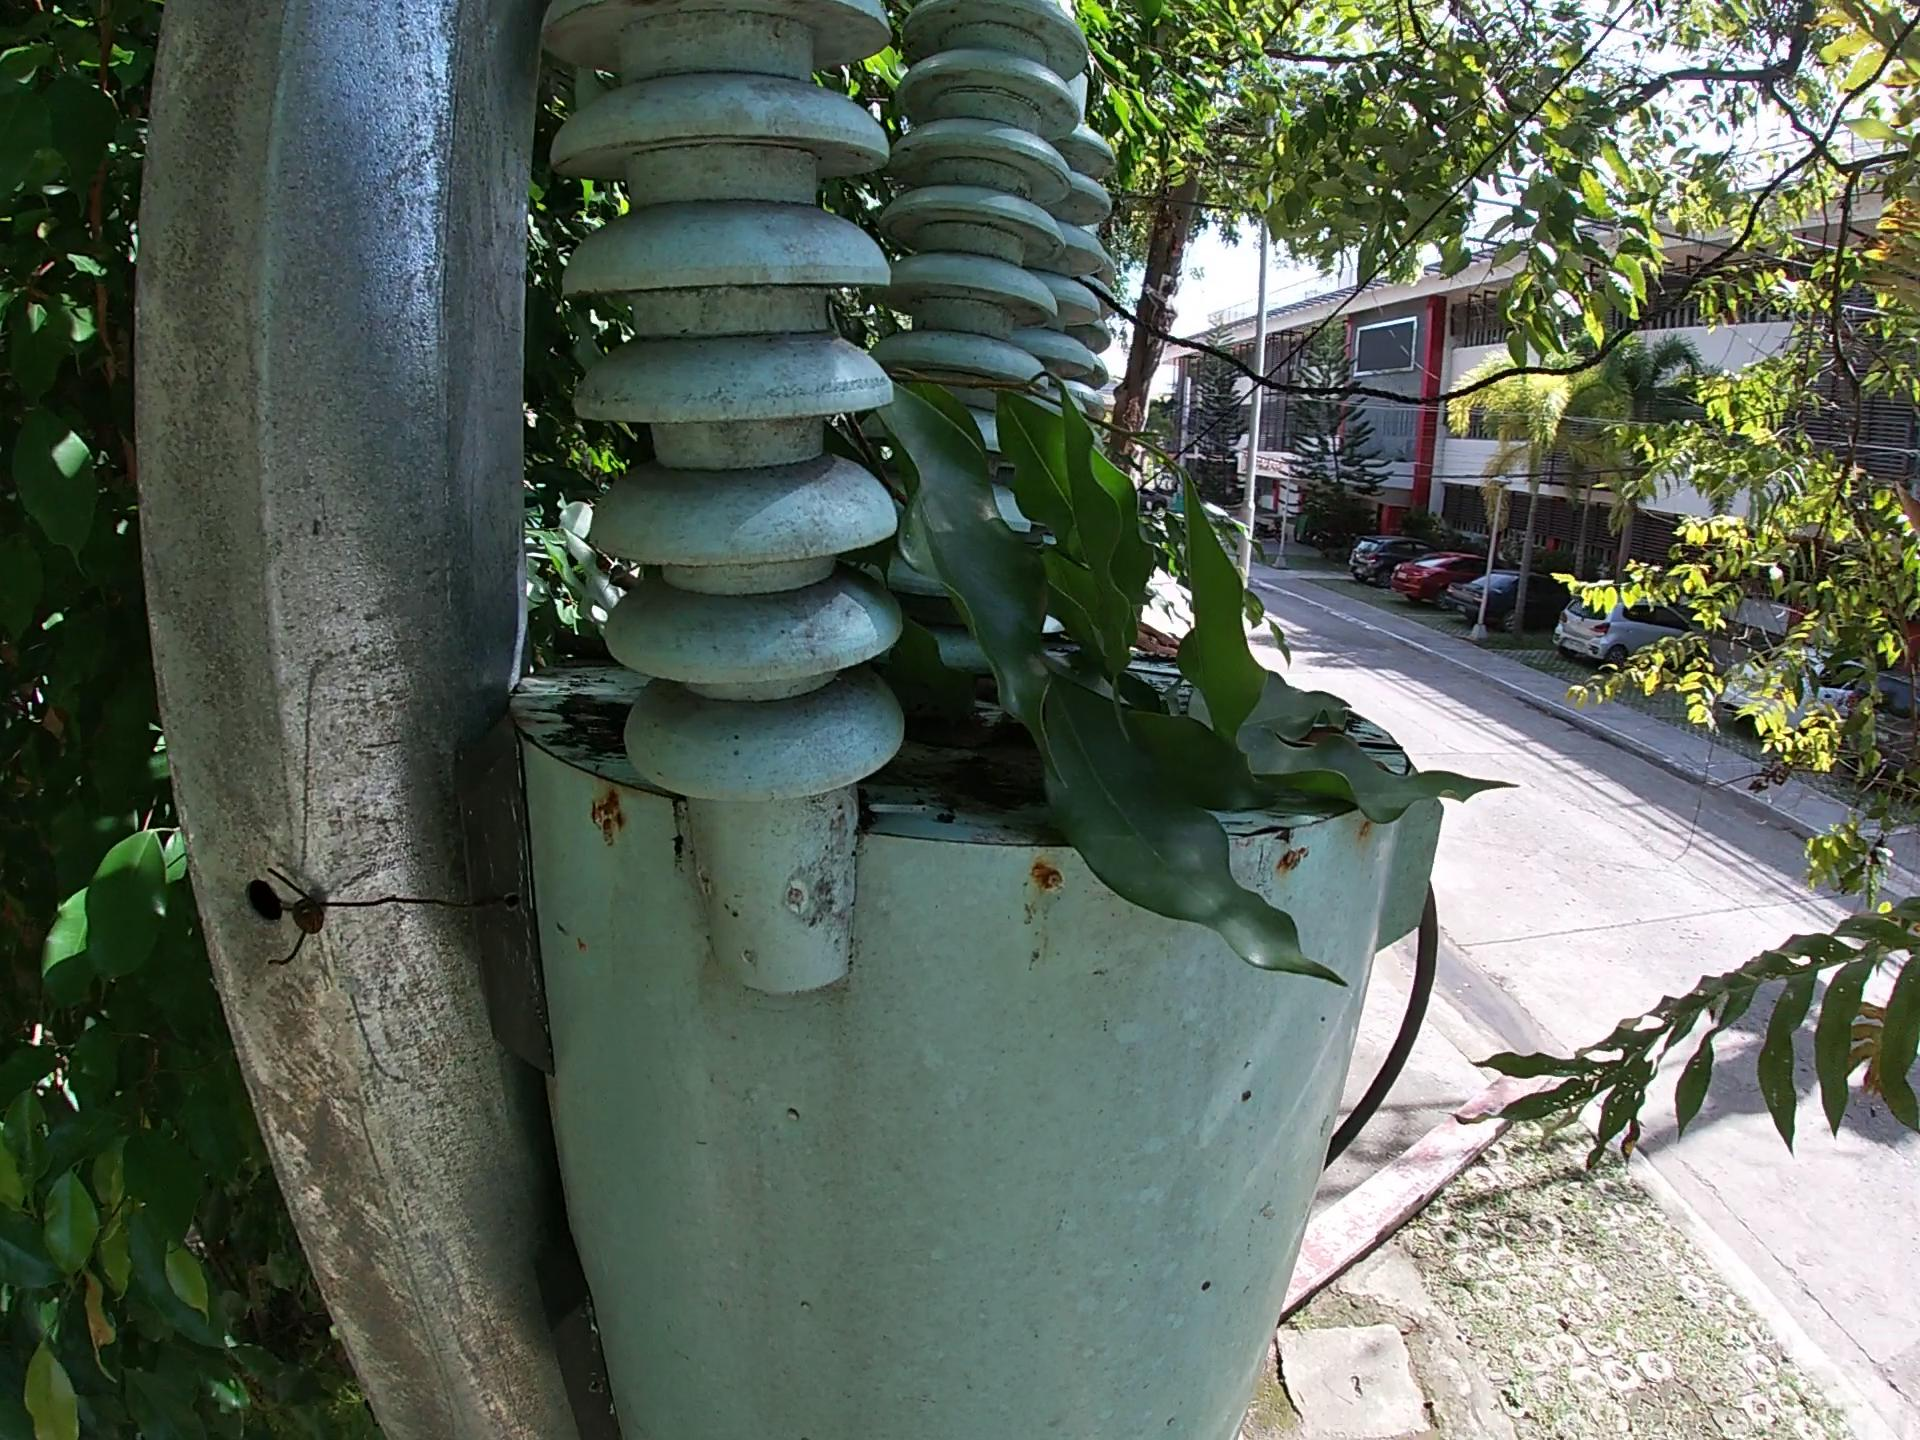branch with leaves: (831, 316, 1541, 1024)
tree branch: (1123, 622, 1188, 672), (600, 564, 643, 593)
